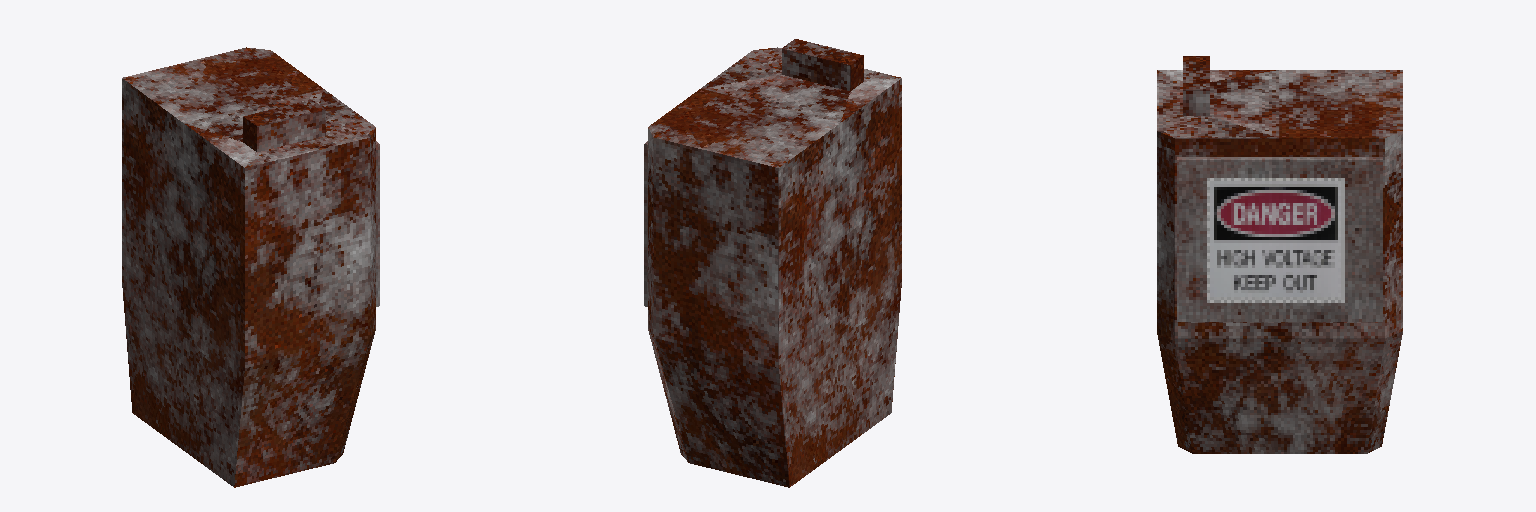
3 views of the same model, side by side, from view 1: azimuth 30°, elevation 25°; view 2: azimuth 150°, elevation 25°; view 3: azimuth 270°, elevation 25° (orthographic).
Visible parts, largest first — view 1: Cube; view 2: Cube; view 3: Cube.
Boxes of the visible parts, <box> form: Cube: <box>122,47,379,487</box>; Cube: <box>644,39,901,487</box>; Cube: <box>1157,56,1402,453</box>.
Size of the model in its own units: 1.36 by 3.16 by 2.
Materials: 2 (2 with a texture image).